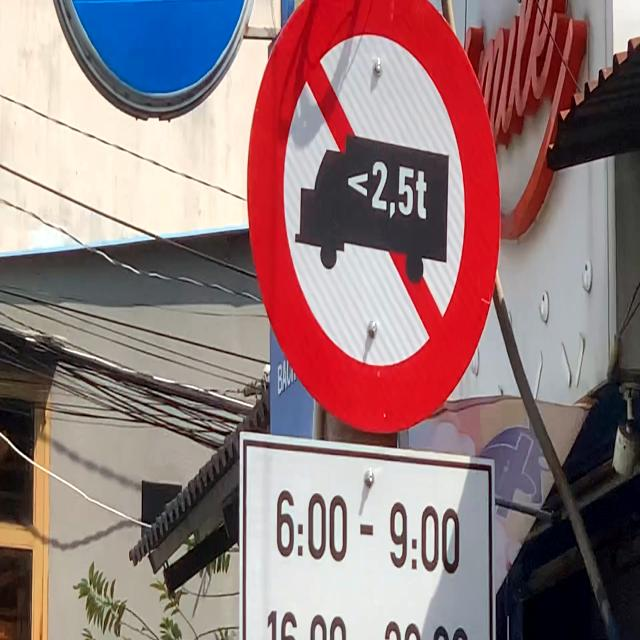P.106b: (246, 0, 503, 437)
